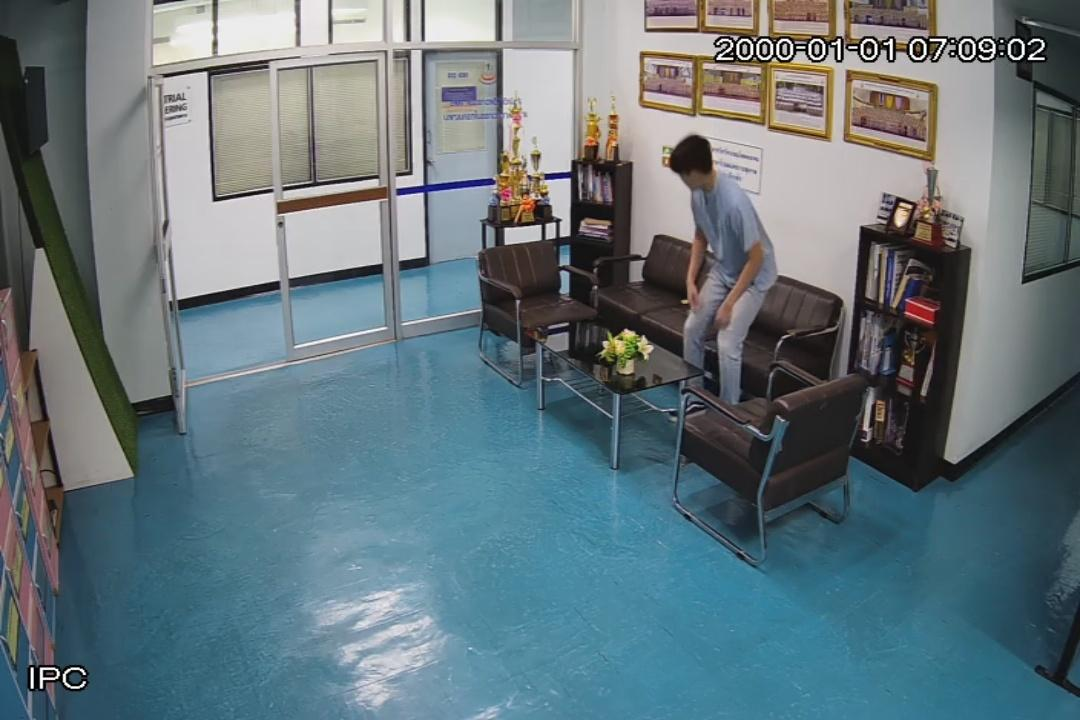normal: (670, 135, 779, 428)
